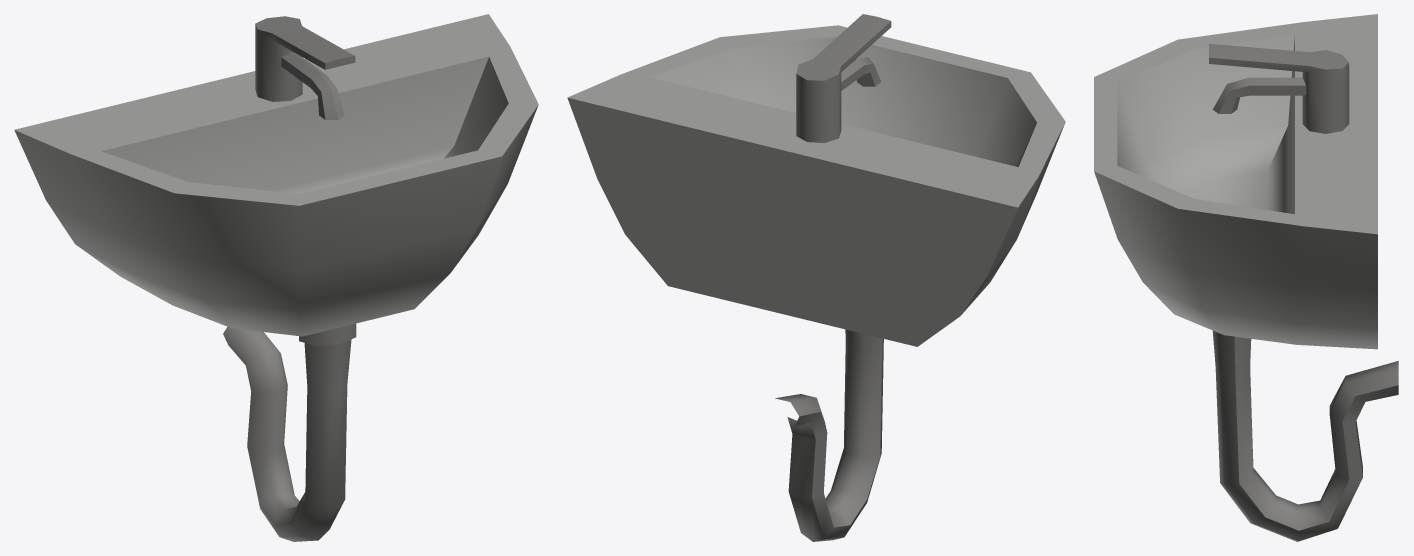
The model's file is Bathroom_Sink.glb.
3 renders of one model, left to right at view 1: azimuth 30°, elevation 25°; view 2: azimuth 150°, elevation 25°; view 3: azimuth 270°, elevation 25°, orthographic. The views are drawn at different scales.
Parts seen in each view (by area): view 1: Bathroom_Sink; view 2: Bathroom_Sink; view 3: Bathroom_Sink.
Part boxes in pixels (x1,y1,x2,y2): Bathroom_Sink: (14,14,538,541); Bathroom_Sink: (567,14,1065,541); Bathroom_Sink: (1094,14,1398,541).
Bounding box in the file's own units: 0.6795 × 0.7075 × 0.3987.
2 materials, 2 textured.
